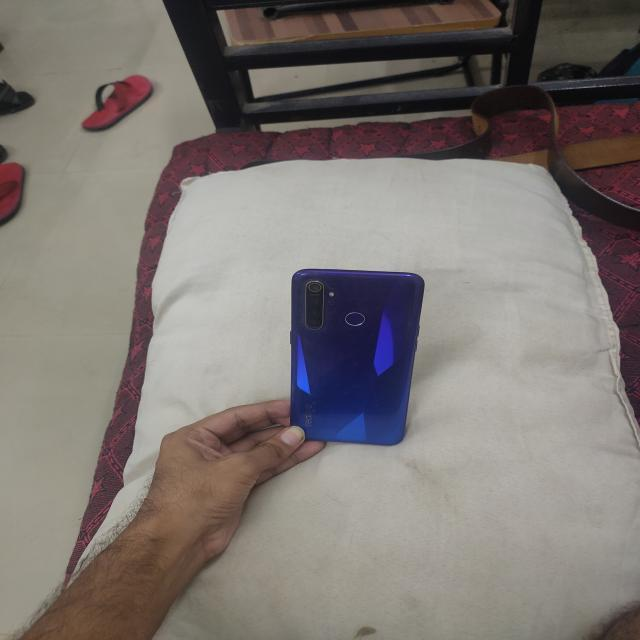Phone: (286, 268, 423, 446)
